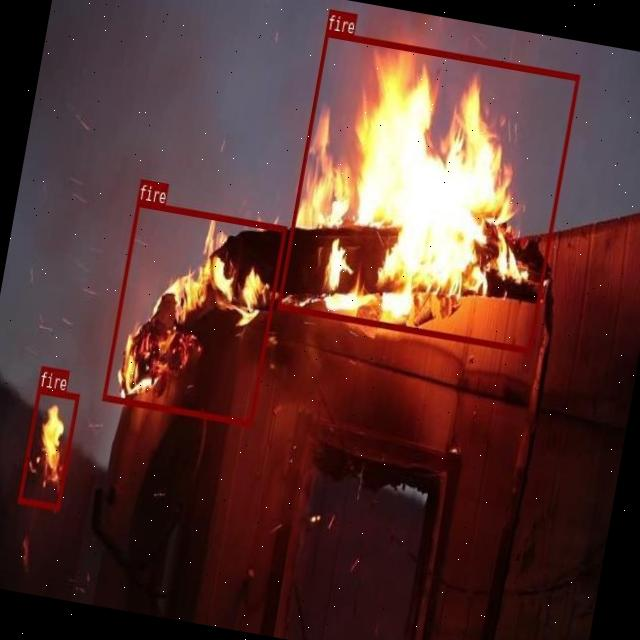fire: (276, 29, 578, 352), (101, 200, 286, 424), (17, 386, 79, 508)
